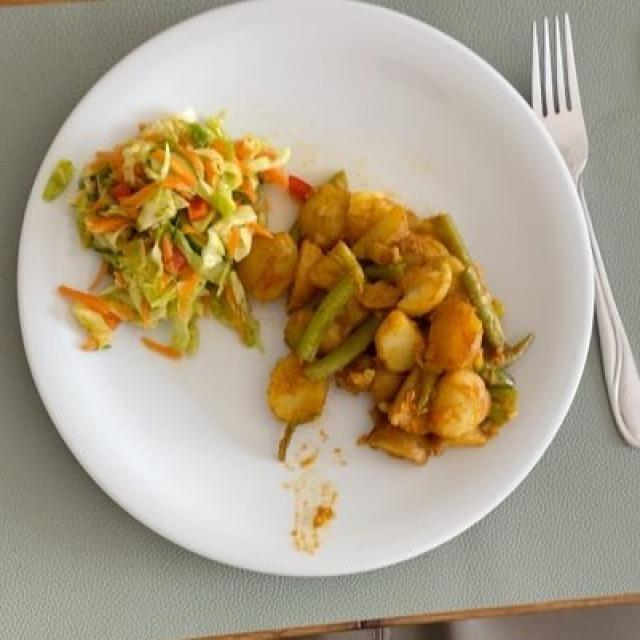coleslaw: (77, 102, 293, 356)
green-bean: (289, 210, 541, 434)
potatoes: (200, 166, 501, 452)
